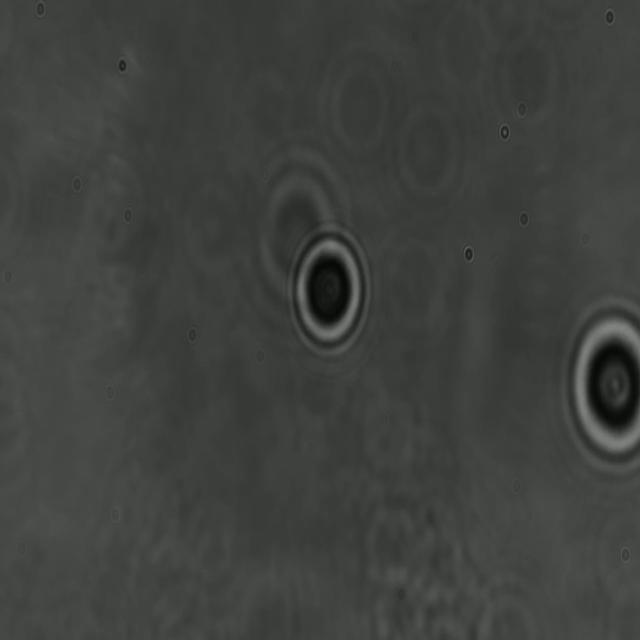DCELL: (288, 225, 370, 356)
